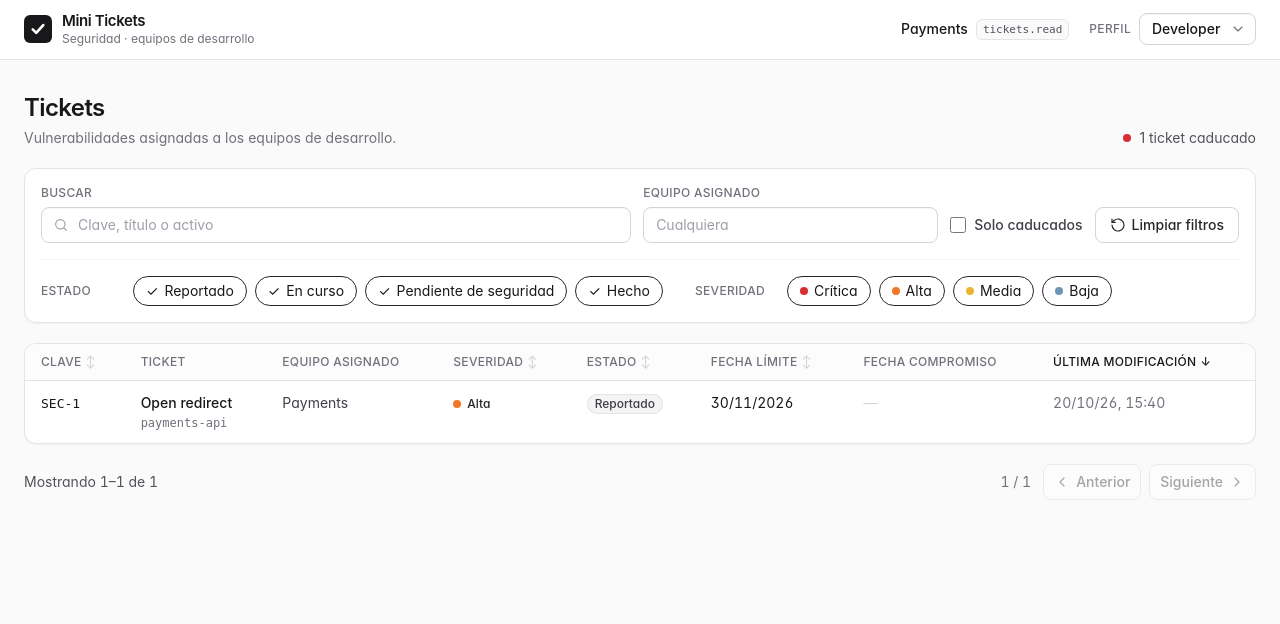
Scenario: clicking anywhere on a row opens the ticket
Click the text "Open redirect" at (186,402), box [141,394,232,411]
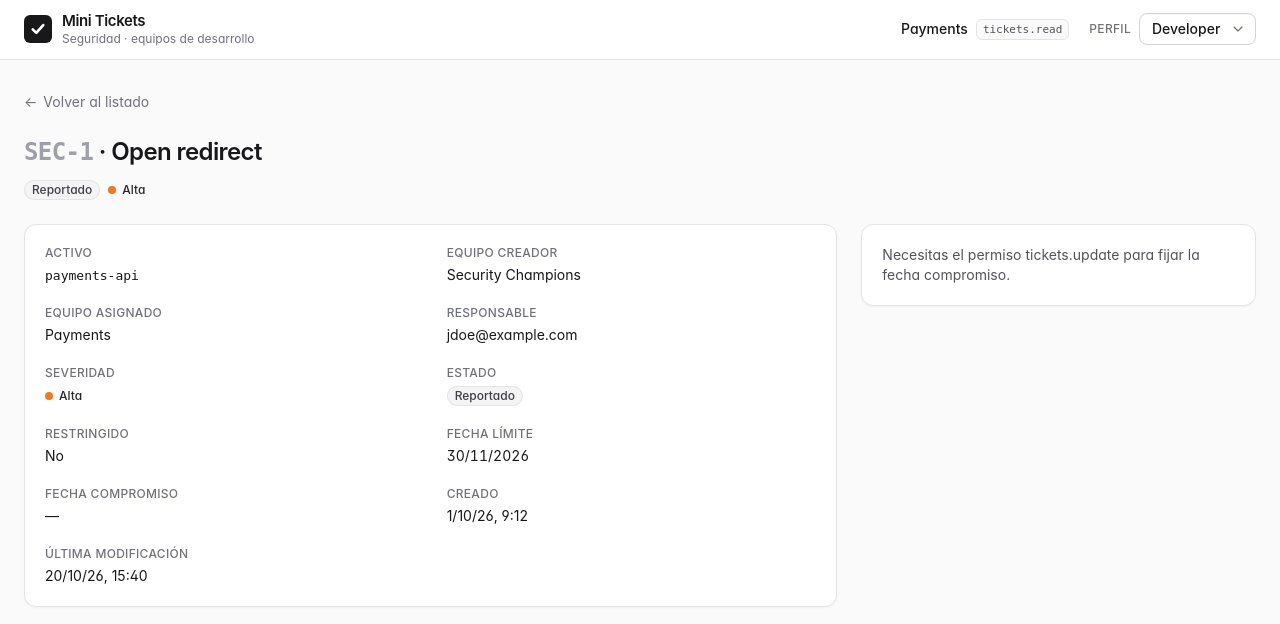
Result: the heading "SEC-1 · Open redirect" is shown at [24,137,262,166]
